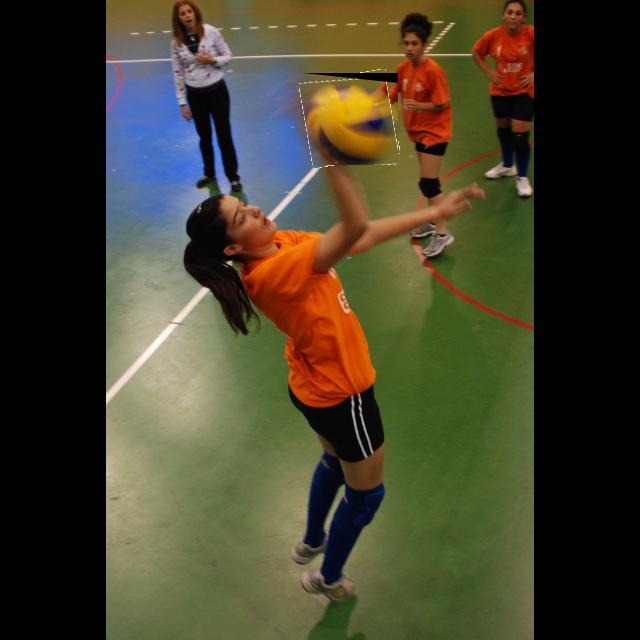Football: (302, 73, 398, 165)
